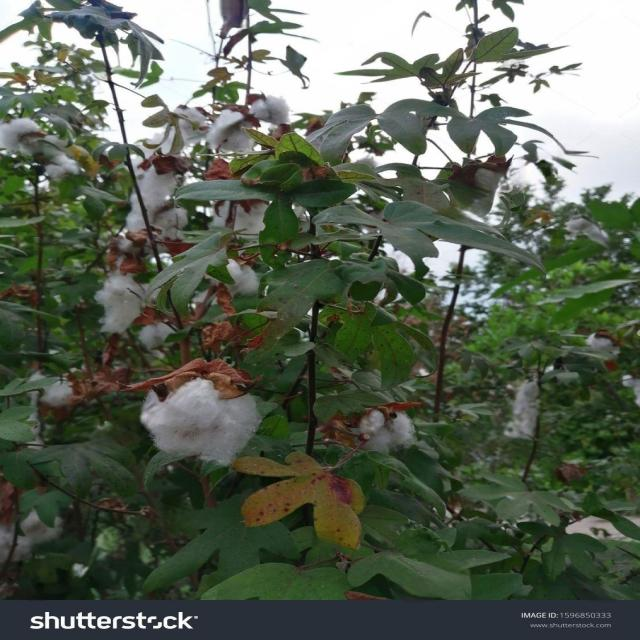Early_blight: (122, 352, 269, 471), (85, 233, 159, 341), (313, 392, 427, 462), (202, 86, 300, 160), (116, 148, 186, 237), (0, 116, 51, 165)
